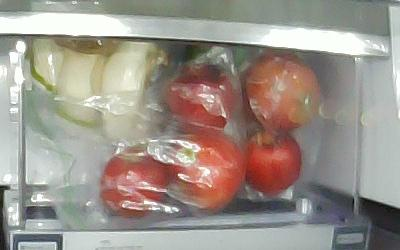apple_vinyl: (234, 51, 320, 130), (167, 133, 247, 210), (161, 63, 241, 134), (98, 143, 170, 219), (238, 126, 302, 194)
